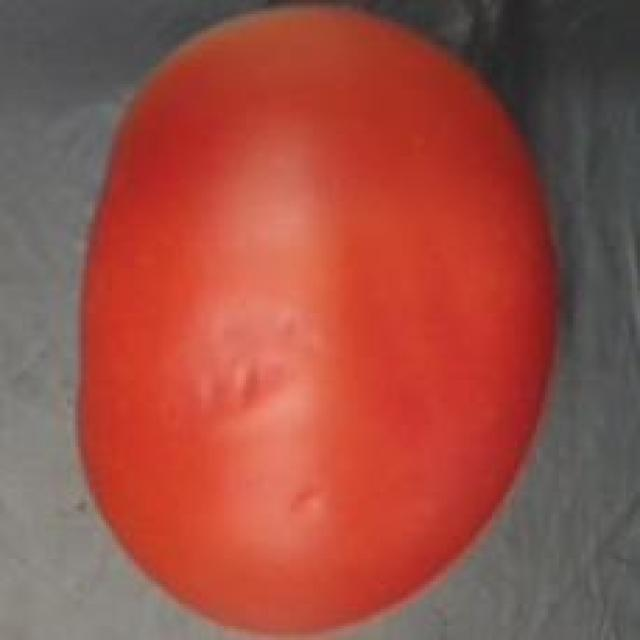ripe tomato: (67, 0, 573, 637)
